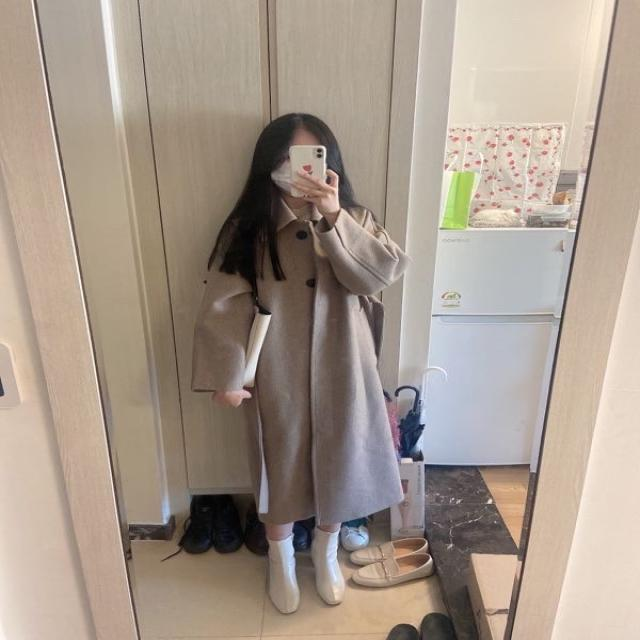coat: (187, 196, 408, 525)
